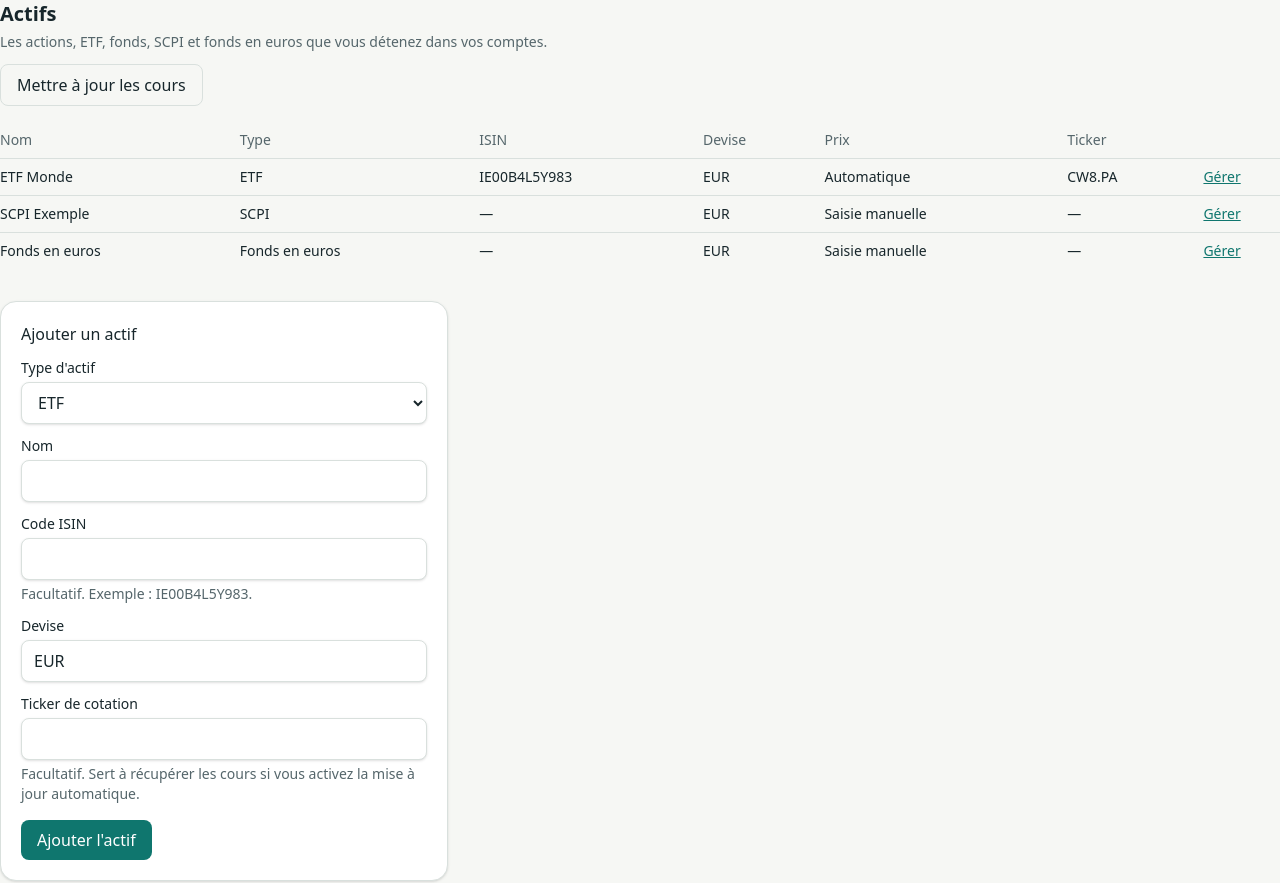
Scenario: prix › liste les derniers prix connus avec leur source
Click the button "Gérer" in the row of "ETF Monde". click: (1222, 177)
box: [1203,167,1241,187]
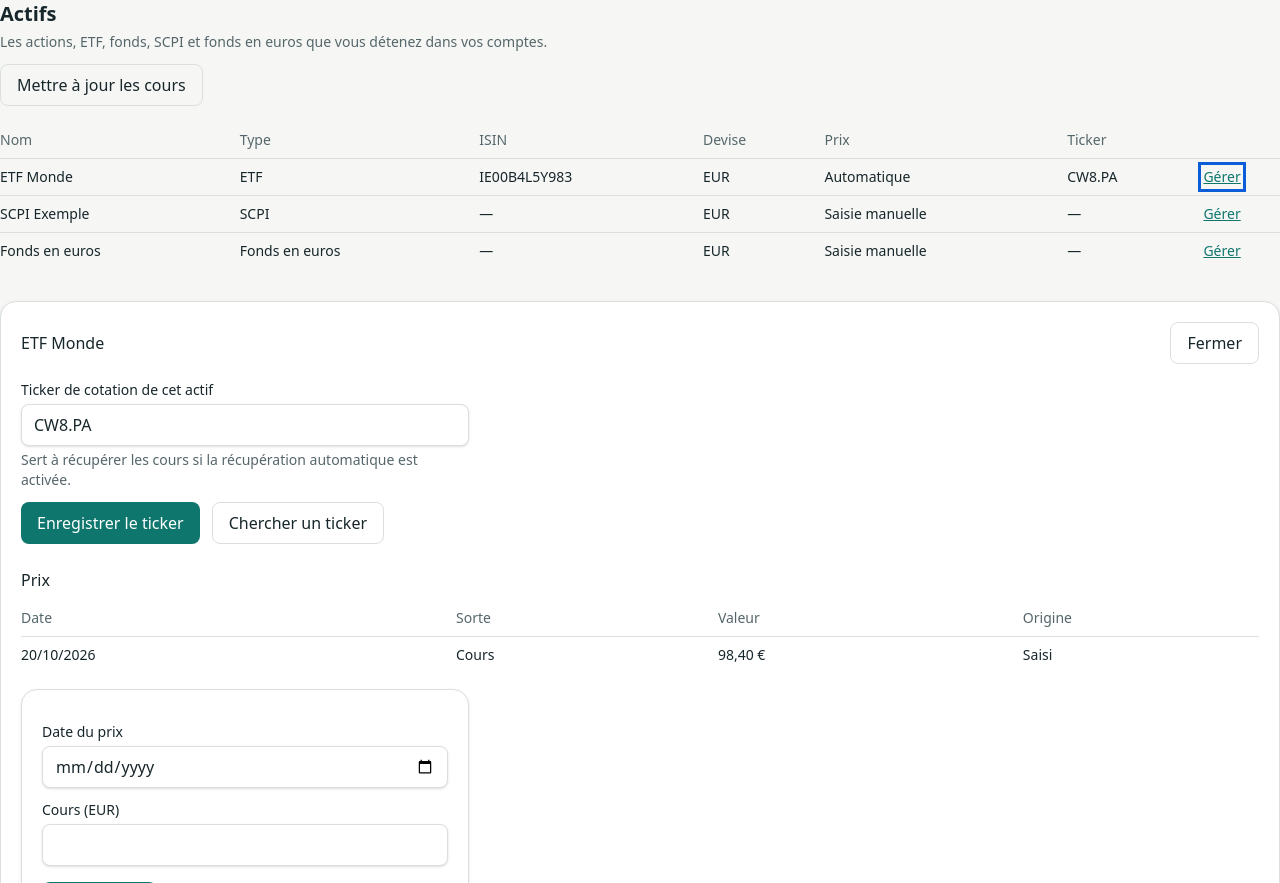
expect the text "20/10/2026" is shown: met, box [21,636,456,673]
expect the text "Saisi" is shown: met, box [1023,636,1259,673]
